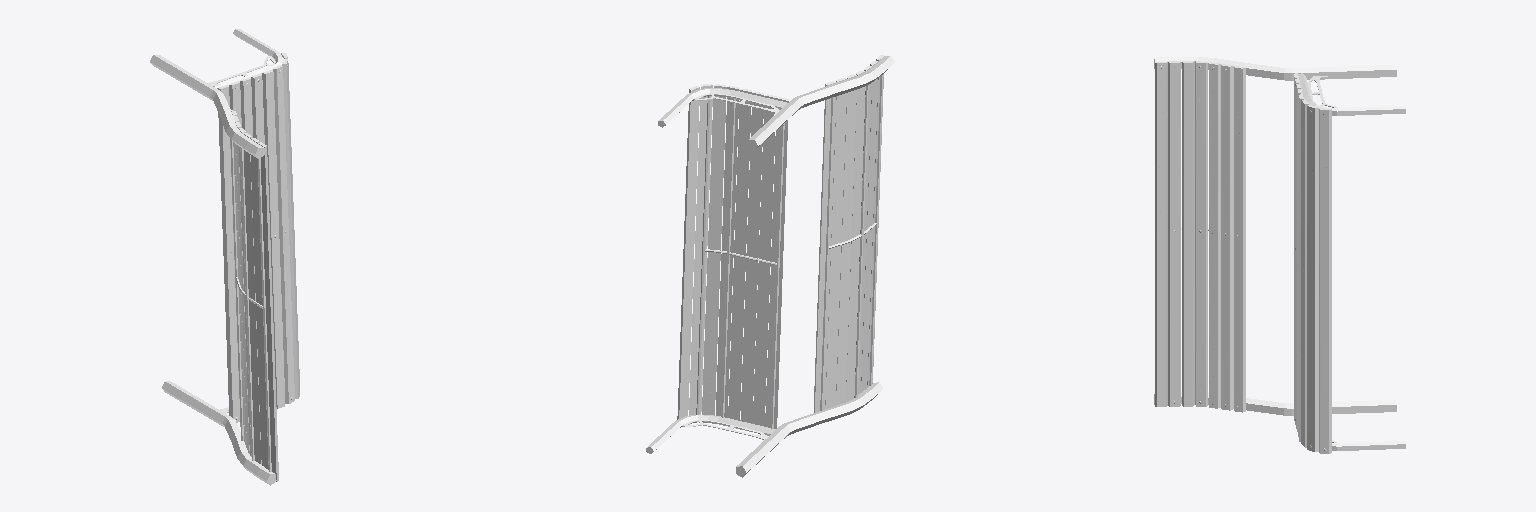
The model's file is bench.obj.
3 views of the same model, side by side, from view 1: azimuth 30°, elevation 25°; view 2: azimuth 150°, elevation 25°; view 3: azimuth 270°, elevation 25° (orthographic).
Visible parts, largest first — view 1: Object.4, Object.1, Object.10, Object.9; view 2: Object.4, Object.6, Object.5, Object.9, Object.10, Object.1, Object.8; view 3: Object.4, Object.5, Object.9, Object.8, Object.10.
Boxes of the visible parts, <box> form: Object.4: <box>150,29,299,485</box>; Object.1: <box>217,85,239,422</box>; Object.10: <box>235,122,249,453</box>; Object.9: <box>233,116,246,447</box>; Object.4: <box>646,55,894,477</box>; Object.6: <box>753,94,776,426</box>; Object.5: <box>677,86,699,419</box>; Object.9: <box>825,78,846,408</box>; Object.10: <box>836,74,856,405</box>; Object.1: <box>765,97,788,428</box>; Object.8: <box>814,81,836,412</box>; Object.4: <box>1154,57,1405,451</box>; Object.5: <box>1319,108,1331,453</box>; Object.9: <box>1221,64,1233,410</box>; Object.8: <box>1234,66,1245,412</box>; Object.10: <box>1209,62,1220,408</box>.
Bounding box in the file's own units: 23.62 × 58.65 × 39.01.